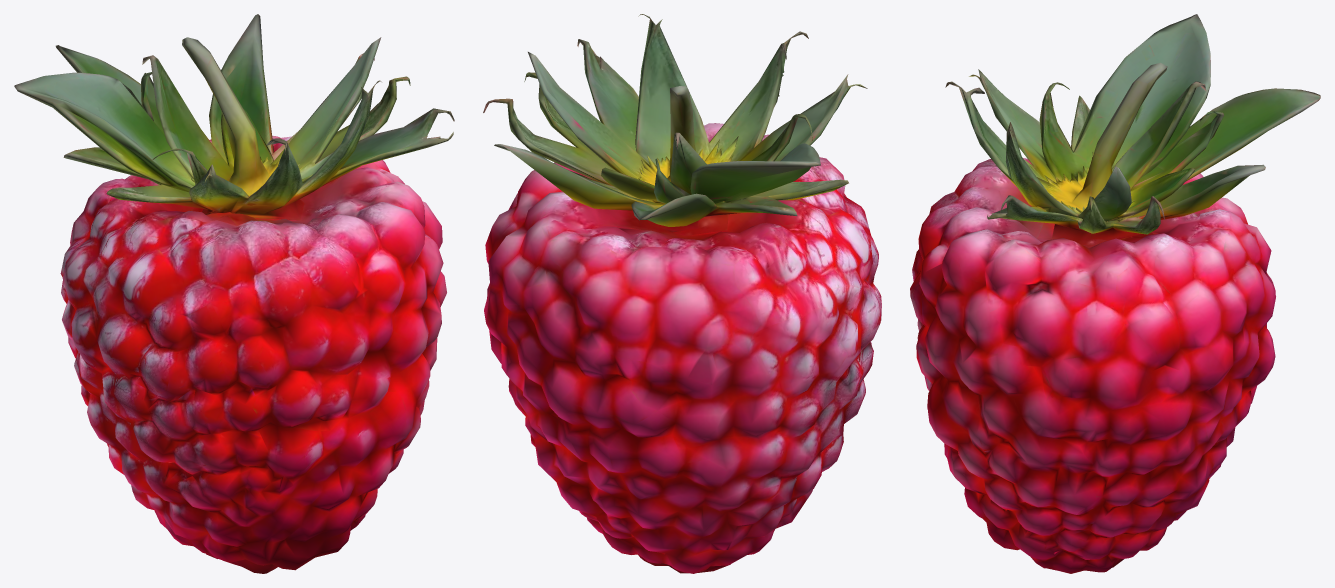
Rendered from f-raspberry.glb.
3 renders of one model, left to right at view 1: azimuth 30°, elevation 25°; view 2: azimuth 150°, elevation 25°; view 3: azimuth 270°, elevation 25°, orthographic. The views are drawn at different scales.
Parts seen in each view (by area): view 1: node_0; view 2: node_0; view 3: node_0.
Boxes of the visible parts, <box> form: node_0: <box>14,14,454,573</box>; node_0: <box>483,14,881,573</box>; node_0: <box>910,14,1320,573</box>.
Bounding box in the file's own units: 0.7334 × 0.9897 × 0.7641.
1 material, 1 textured.
